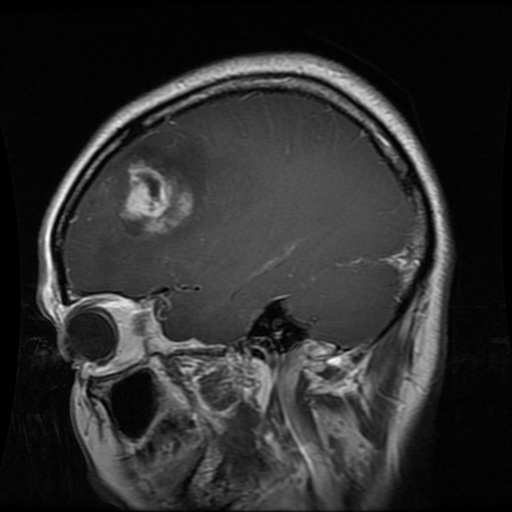glioma: (123, 159, 192, 235)
